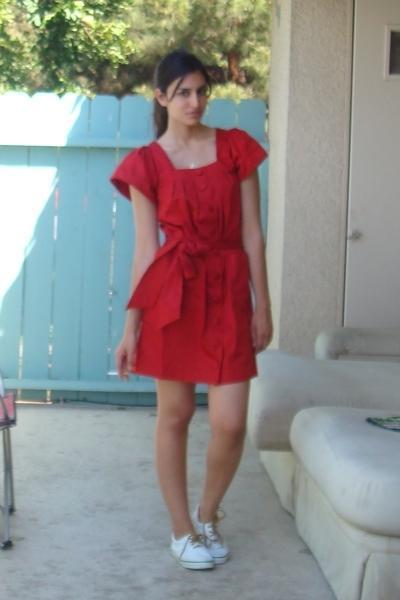dress: (111, 128, 267, 385)
shoe: (171, 516, 225, 567)
